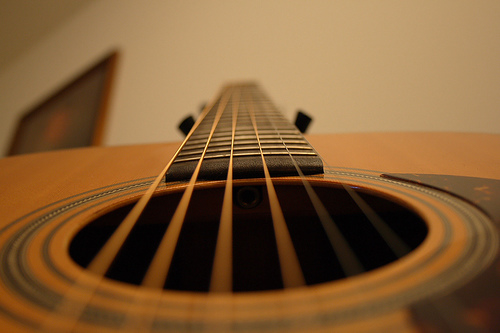guitar: (1, 79, 500, 333)
